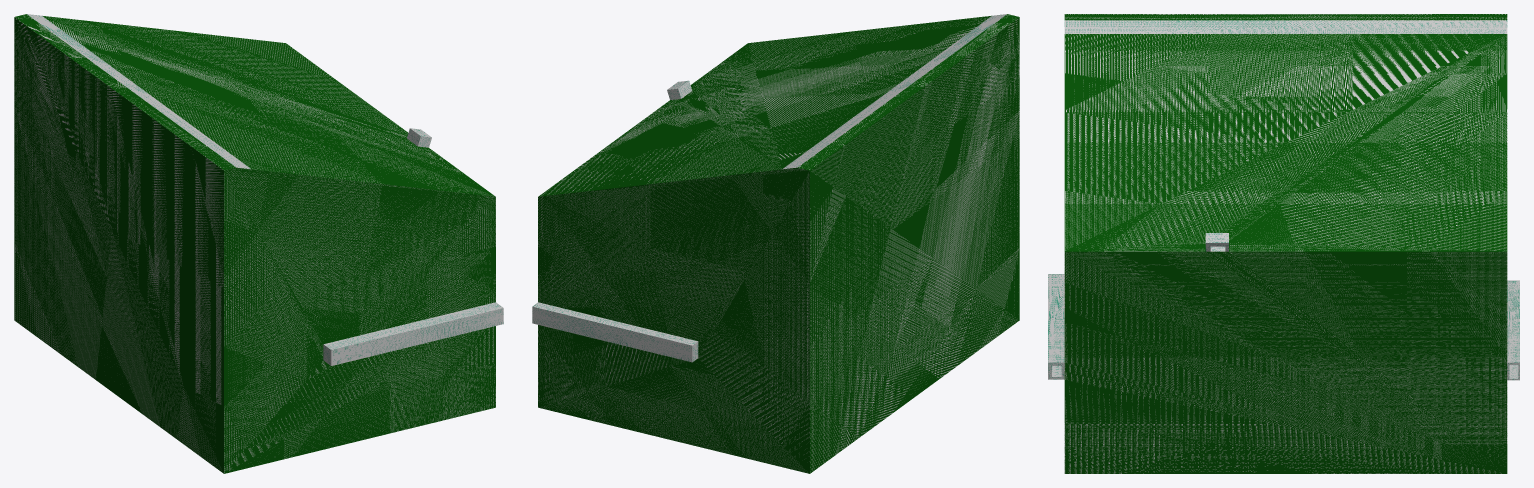
3 views of the same model, side by side, from view 1: azimuth 30°, elevation 25°; view 2: azimuth 150°, elevation 25°; view 3: azimuth 270°, elevation 25° (orthographic). The views are drawn at different scales.
Parts seen in each view (by area): view 1: mesh1_mesh1-geometry; view 2: mesh1_mesh1-geometry; view 3: mesh1_mesh1-geometry.
Boxes of the visible parts, x1=… form: mesh1_mesh1-geometry: x1=14, y1=14, x2=503, y2=473; mesh1_mesh1-geometry: x1=532, y1=14, x2=1019, y2=473; mesh1_mesh1-geometry: x1=1048, y1=14, x2=1519, y2=473.
Size of the model in its own units: 0.494 by 0.5209 by 0.6962.
